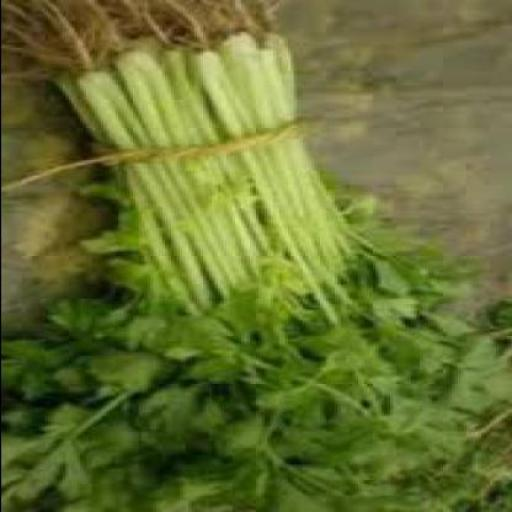biodegradable: (2, 1, 511, 511)
